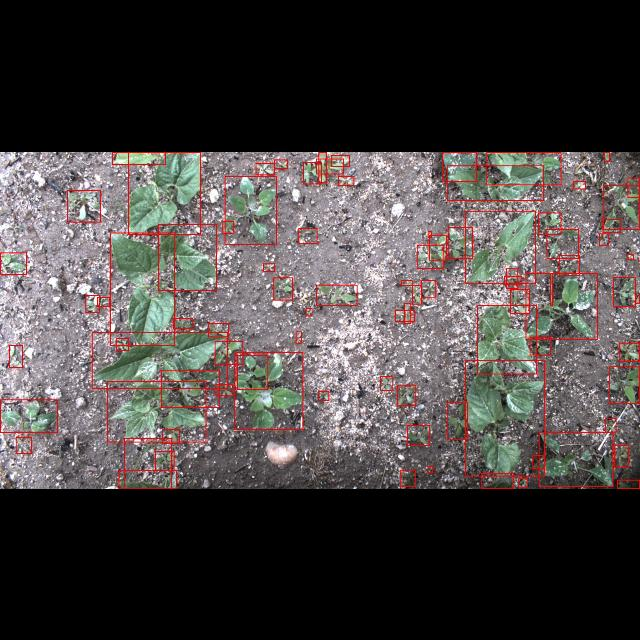crop: (466, 360, 544, 476), (92, 332, 228, 388), (110, 232, 174, 344), (108, 381, 206, 442), (128, 151, 200, 233), (465, 210, 535, 284), (477, 304, 537, 374), (158, 223, 216, 289), (447, 164, 543, 200), (487, 152, 561, 184), (119, 470, 177, 488), (442, 151, 476, 181), (112, 151, 166, 163), (482, 474, 514, 488)
weed: (235, 352, 303, 428), (526, 273, 596, 339), (539, 432, 613, 486), (226, 175, 276, 243), (125, 438, 172, 488), (161, 370, 219, 408), (0, 400, 58, 432), (604, 185, 640, 229), (609, 366, 639, 404), (236, 355, 268, 389), (68, 189, 100, 221), (547, 228, 579, 258), (317, 284, 357, 306), (447, 402, 468, 440), (448, 226, 472, 258), (613, 276, 635, 306), (215, 341, 243, 364), (417, 244, 443, 268), (0, 252, 26, 274), (538, 212, 562, 234), (510, 289, 530, 313), (429, 234, 446, 260), (302, 161, 322, 183), (407, 425, 429, 445), (396, 385, 416, 405), (559, 255, 579, 275), (274, 277, 292, 299), (316, 158, 344, 172), (620, 343, 640, 361), (530, 336, 550, 354), (156, 452, 174, 471), (614, 445, 628, 467), (10, 344, 22, 368), (208, 322, 228, 336), (16, 437, 32, 453), (400, 470, 416, 486), (85, 294, 99, 312), (162, 429, 180, 443), (299, 228, 317, 242), (422, 279, 436, 297), (603, 218, 621, 232), (319, 151, 327, 181), (628, 177, 640, 197), (507, 268, 518, 288), (256, 162, 274, 174), (331, 154, 349, 166), (173, 318, 193, 328), (412, 284, 422, 304), (617, 479, 639, 488), (216, 384, 232, 396), (396, 310, 414, 320), (380, 376, 392, 390), (116, 338, 128, 350), (222, 220, 234, 232), (532, 456, 544, 468), (504, 276, 522, 284), (606, 418, 616, 432), (274, 158, 288, 168), (338, 176, 354, 184), (97, 296, 109, 306), (405, 303, 411, 323), (518, 478, 528, 488), (319, 390, 329, 400), (573, 180, 585, 188), (600, 233, 608, 245), (264, 263, 274, 271), (550, 272, 552, 306), (296, 332, 302, 342), (306, 307, 312, 315), (604, 152, 610, 160), (402, 280, 412, 284), (635, 295, 639, 303), (628, 254, 634, 258), (428, 466, 432, 472), (428, 231, 430, 237)
